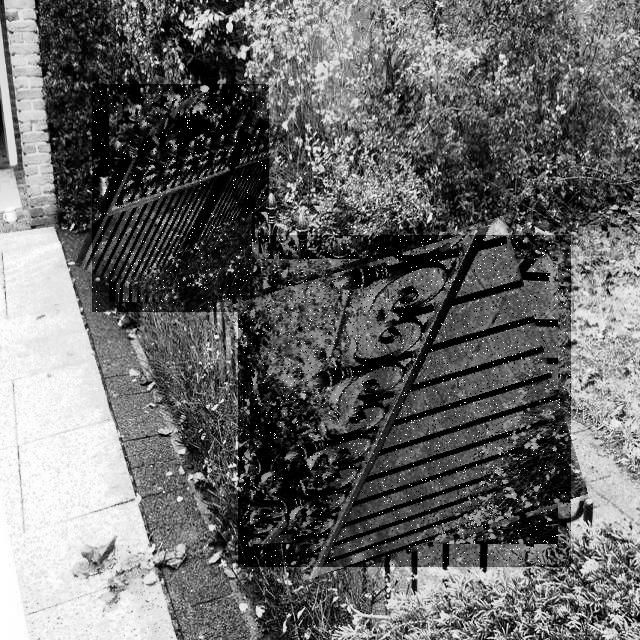fences: (238, 235, 571, 567), (92, 84, 269, 312)
